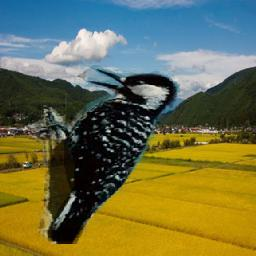Woodpecker: (29, 66, 184, 245)
